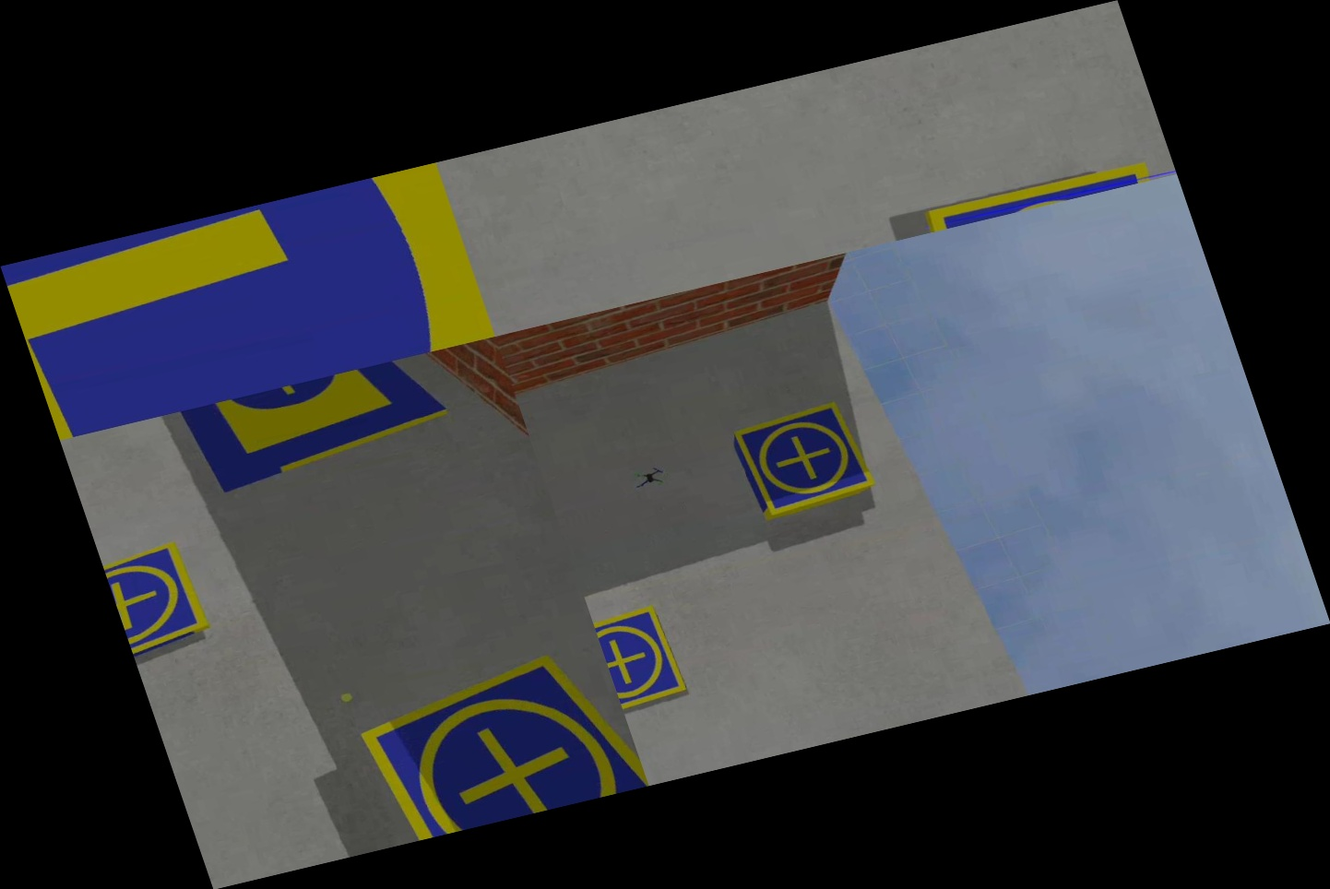large_base: (165, 350, 463, 502)
small_base: (0, 162, 495, 440), (343, 637, 648, 846), (725, 395, 881, 522), (101, 537, 227, 672), (590, 598, 695, 714)
